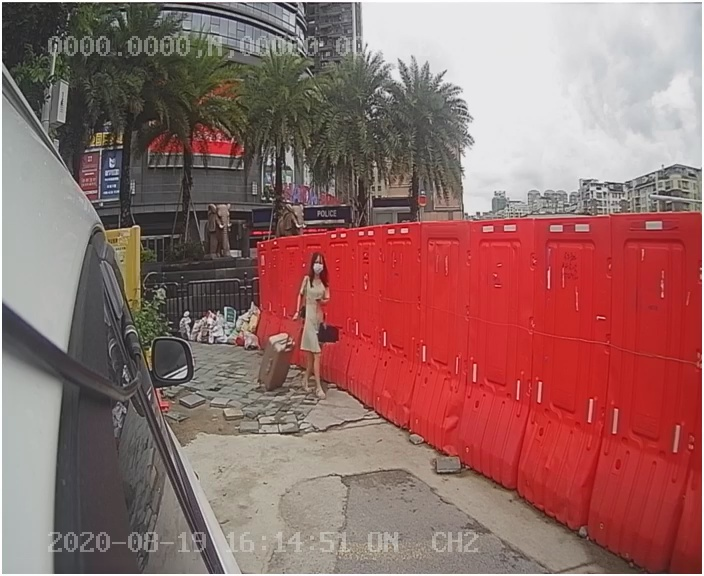person: (283, 250, 355, 402)
